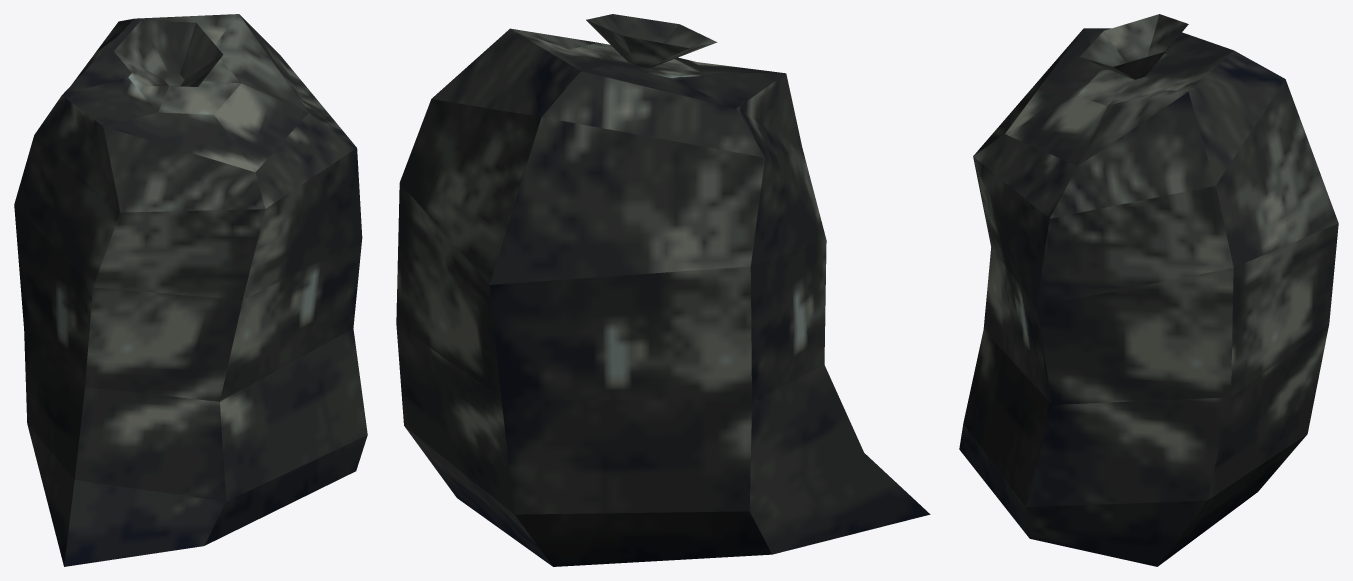
The model's file is Urban_Trashbag2_Model.fbx.
3 renders of one model, left to right at view 1: azimuth 30°, elevation 25°; view 2: azimuth 150°, elevation 25°; view 3: azimuth 270°, elevation 25°, orthographic. The views are drawn at different scales.
Visible parts, largest first — view 1: Urban_Trashbag2_Mesh; view 2: Urban_Trashbag2_Mesh; view 3: Urban_Trashbag2_Mesh.
Part boxes in pixels (left/top/right/bottom): Urban_Trashbag2_Mesh: left=14, top=14, right=367, bottom=566; Urban_Trashbag2_Mesh: left=396, top=14, right=930, bottom=566; Urban_Trashbag2_Mesh: left=959, top=14, right=1338, bottom=566.
Size of the model in its own units: 0.8555 by 1.04 by 0.7744.
